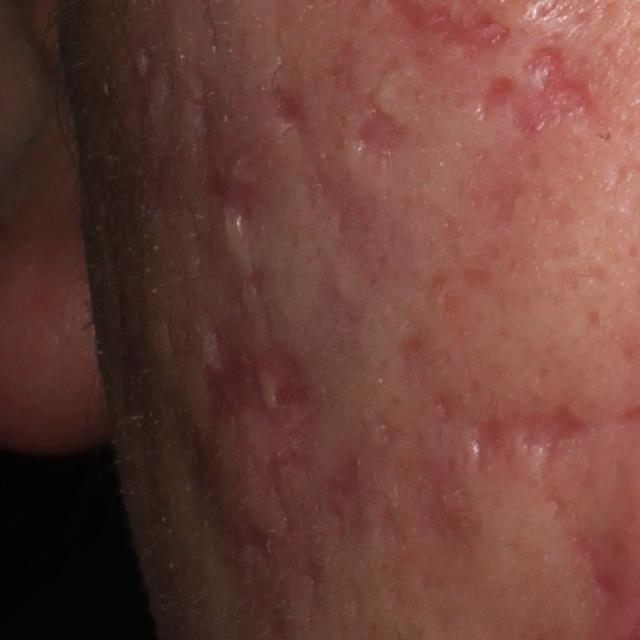atrophic_scar: (196, 267, 318, 426), (267, 78, 379, 251), (368, 427, 492, 574), (472, 37, 605, 143), (190, 71, 265, 227), (329, 42, 415, 161), (547, 493, 626, 611), (469, 402, 591, 470)
hypertrophic_scar: (213, 204, 253, 290), (506, 425, 552, 485), (257, 366, 281, 419)
